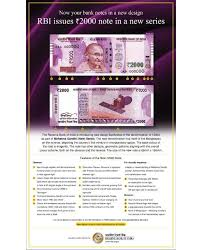twoThousand: (53, 40, 147, 71)
